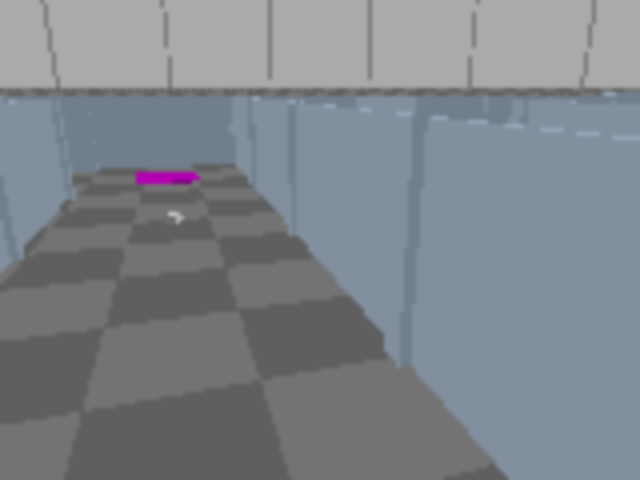goal_zone: (134, 171, 200, 185)
